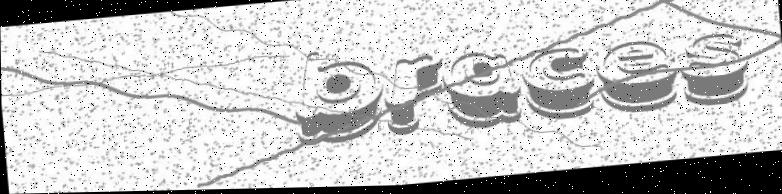a: (441, 47, 525, 128)
b: (288, 41, 383, 148)
c: (520, 40, 599, 126)
e: (590, 36, 679, 121)
r: (380, 47, 451, 142)
s: (675, 27, 753, 115)
